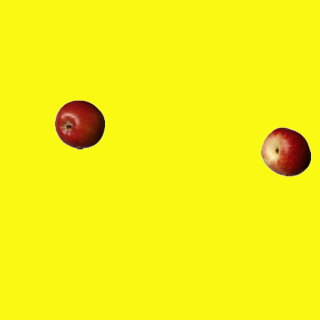Apple Braeburn: (54, 99, 104, 149)
Nectarine: (260, 126, 310, 176)
